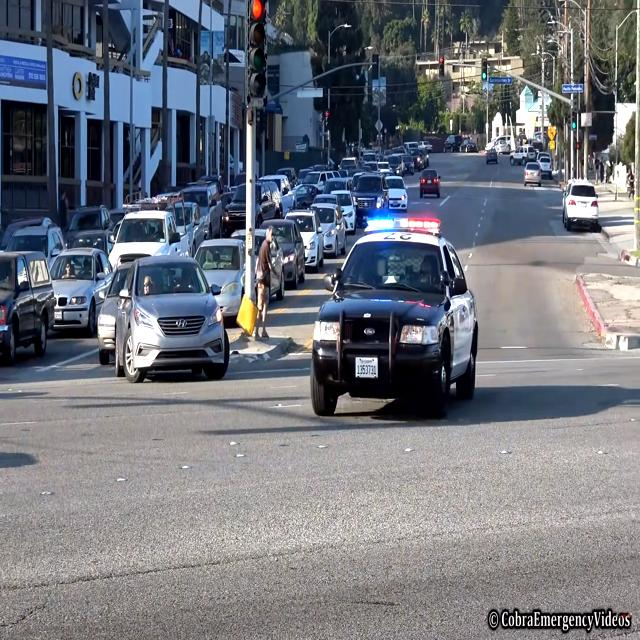emergency-vehicles: (300, 206, 486, 429)
